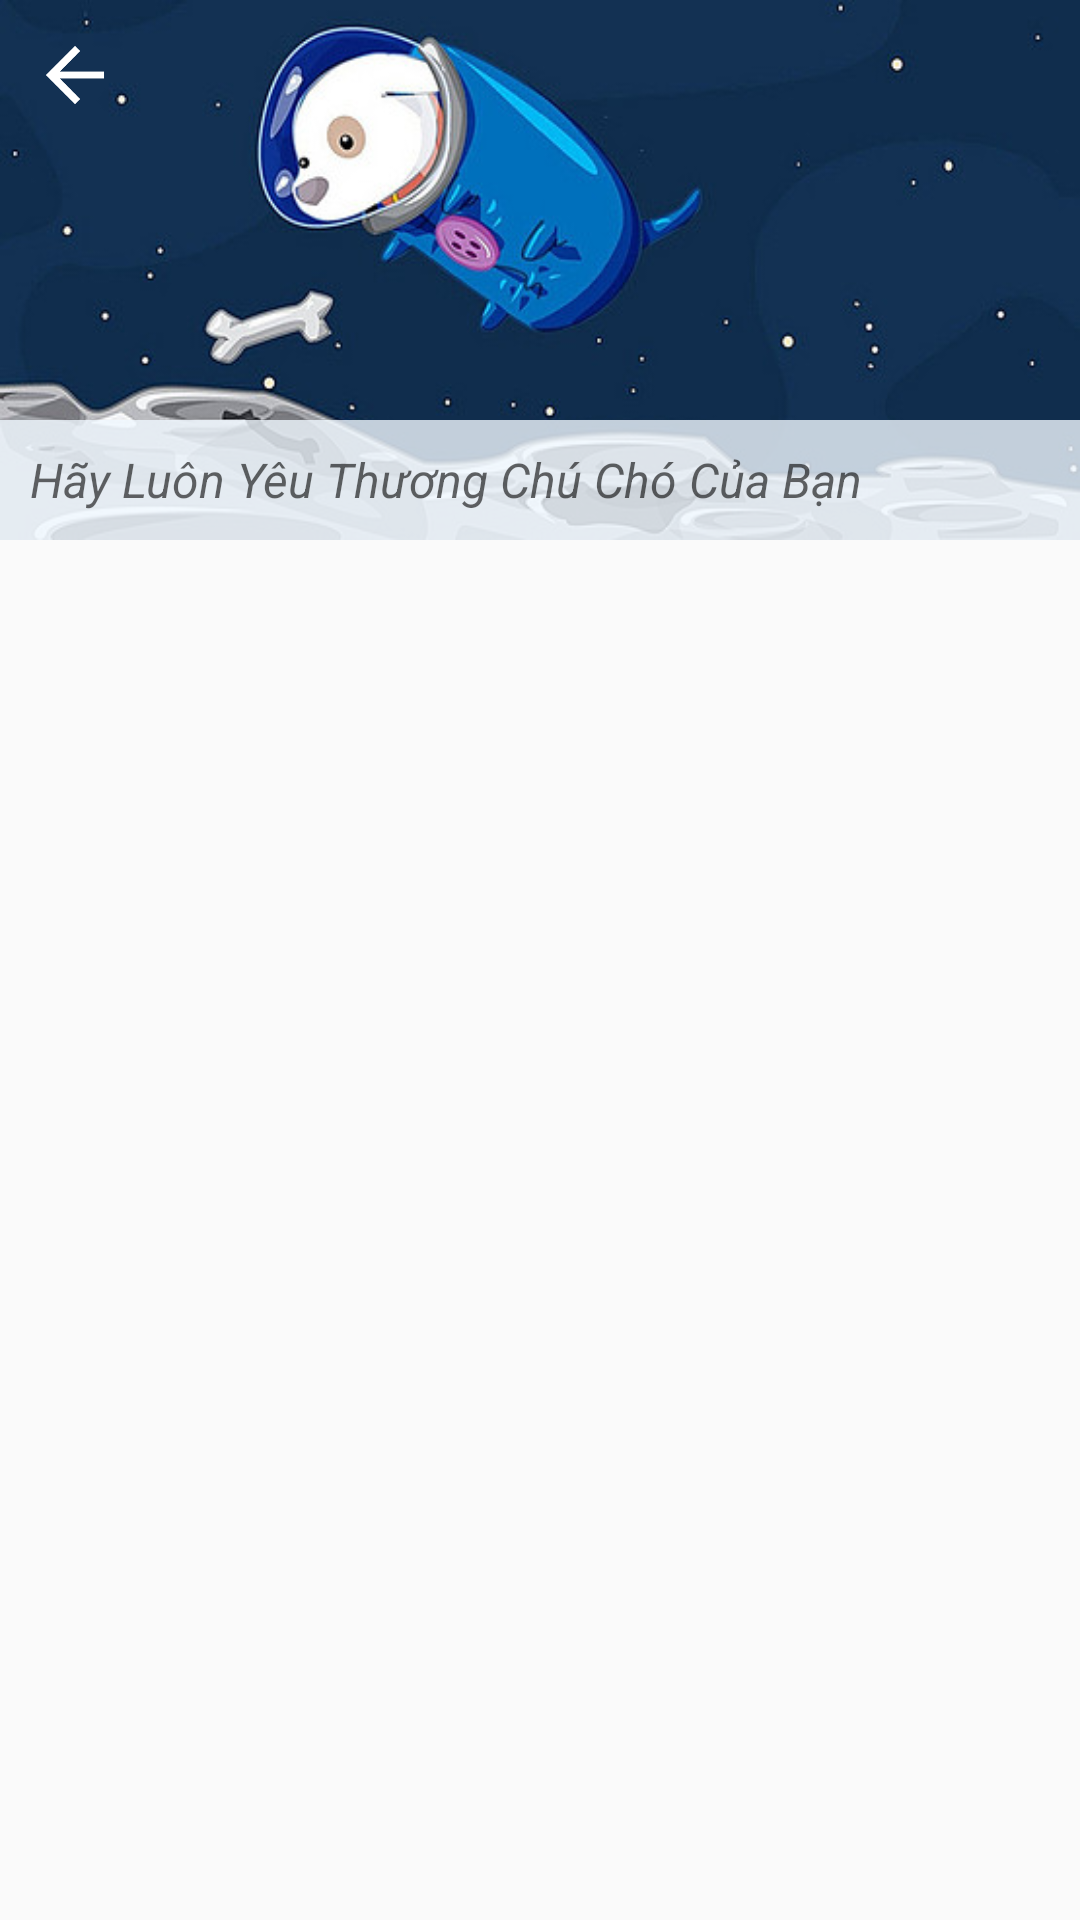

Icon bounding boxes for this 1080 × 1920 phone screenshot, format (x1,y1,x2,y2):
arrow back: (46,19,129,106)
